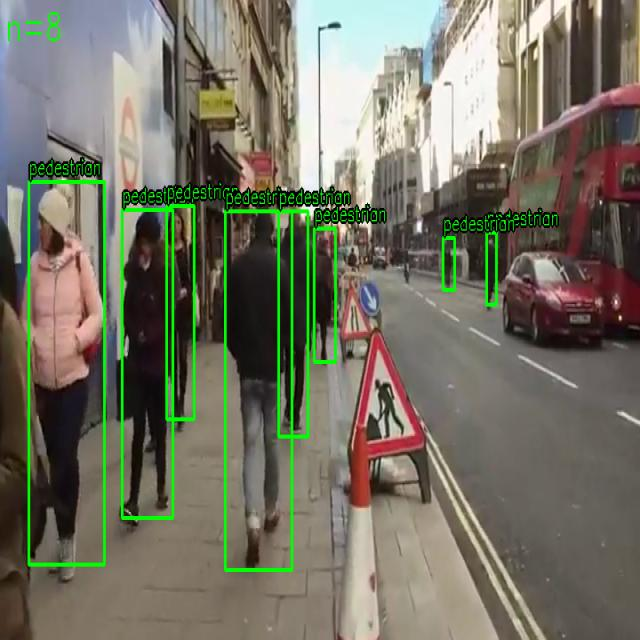with scooter: (28, 182, 105, 566), (225, 210, 292, 570), (122, 209, 173, 519), (278, 211, 308, 437), (166, 205, 195, 420), (314, 228, 336, 363), (486, 232, 497, 305), (443, 237, 455, 291)
